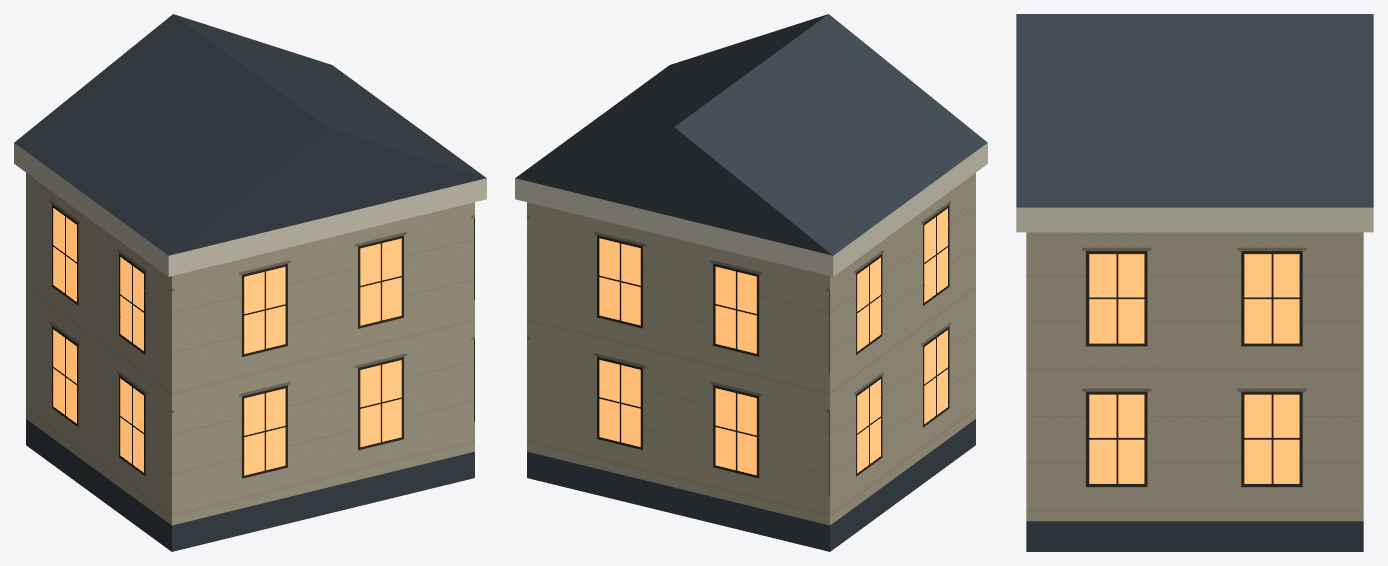
Rendered from house.glb.
3 views of the same model, side by side, from view 1: azimuth 30°, elevation 25°; view 2: azimuth 150°, elevation 25°; view 3: azimuth 270°, elevation 25° (orthographic). The views are drawn at different scales.
Visible parts, largest first — view 1: house; view 2: house; view 3: house.
Part boxes in pixels (<box>): house: <box>14,14,486,551</box>; house: <box>515,14,987,551</box>; house: <box>1016,14,1373,551</box>.
Size of the model in its own units: 6.3 by 7.4 by 5.3.
Materials: 3 (1 with a texture image).
